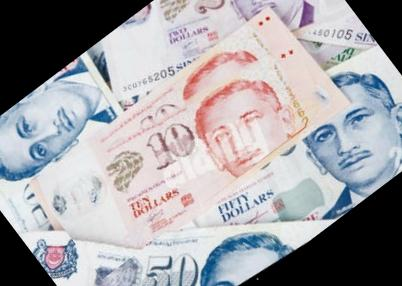10SingaporeDollar: (31, 7, 338, 279)
